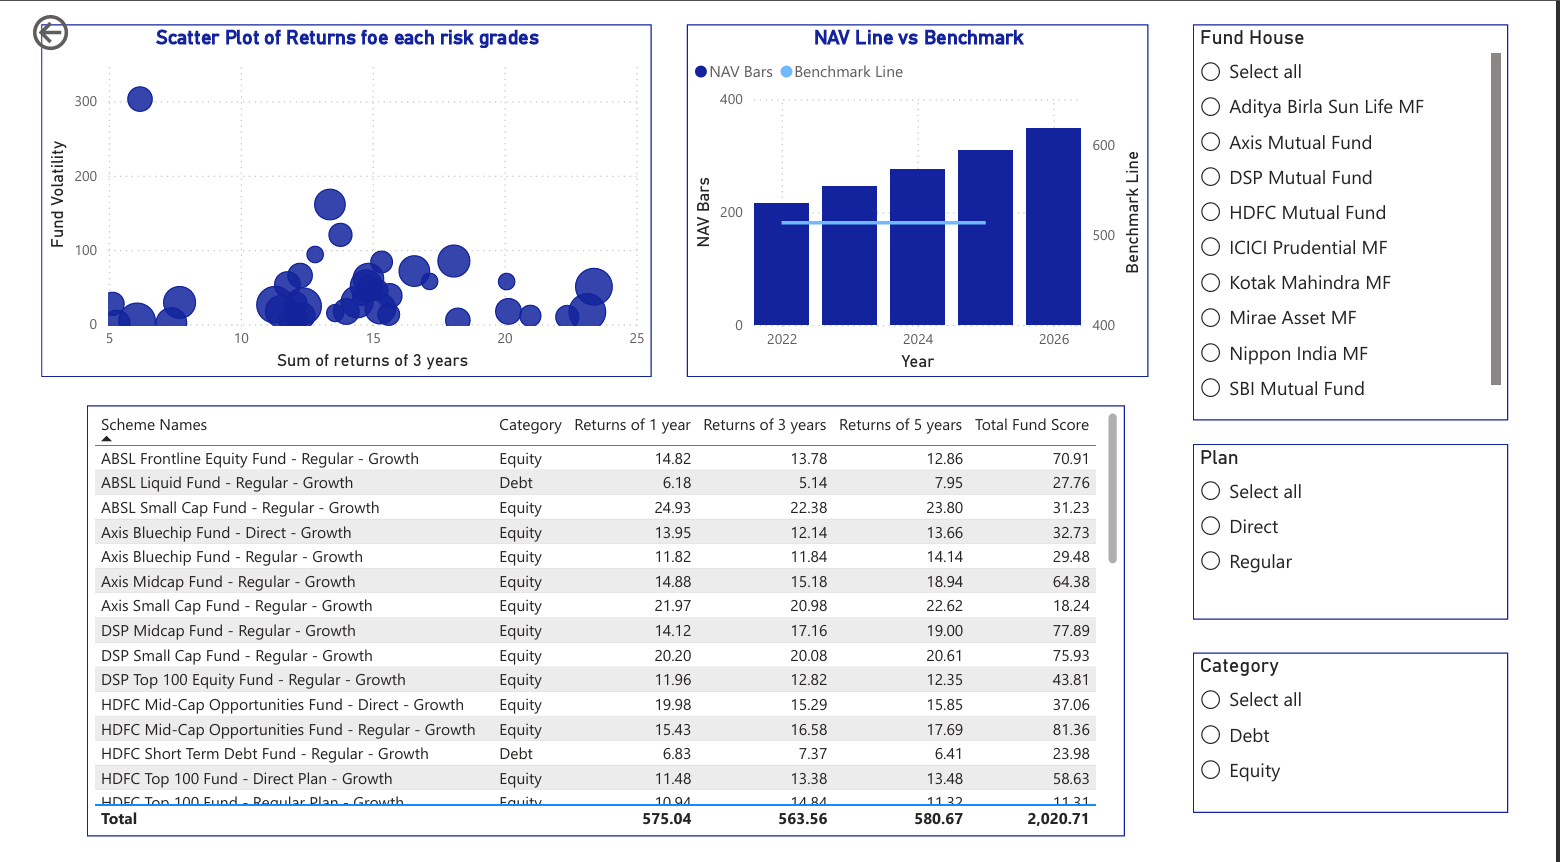

What the dashboard file says about the page in this screenshot:
{"tool":"powerbi","page":{"name":"Fund Performance","canvas":[1280,720],"ordinal":1},"visuals":[{"type":"scatterChart","title":"Scatter Plot of Returns foe each risk grades","fields":{"X":["Sum(fact_performance_pbi.return_3yr_pct)"],"Y":["fact_nav_pbi.Fund Volatility"],"Category":["dim_fund_pbi.scheme_name"],"Size":["Sum(fact_aum_pbi.aum_crore)"]},"box":[12.2,13.5,520.9,300.8],"z":0},{"type":"tableEx","fields":{"Values":["dim_fund_pbi.scheme_name","dim_fund_pbi.category","Sum(fact_performance_pbi.return_1yr_pct)","Sum(fact_performance_pbi.return_3yr_pct)","Sum(fact_performance_pbi.return_5yr_pct)","Sum(fund_scorecard.fund_score)"]},"box":[51.4,337.5,885.3,368.1],"z":1000},{"type":"listSlicer","fields":{"Values":["dim_fund_pbi.category"]},"box":[995.4,549.1,269,137],"z":2000},{"type":"listSlicer","fields":{"Values":["dim_fund_pbi.plan"]},"box":[995.4,370.5,269,150.4],"z":3000},{"type":"listSlicer","fields":{"Values":["dim_fund_pbi.fund_house"]},"box":[995.4,13.5,269,337.5],"z":4000},{"type":"lineClusteredColumnComboChart","title":"NAV Line vs Benchmark","fields":{"Category":["dim_date_pbi.date_id.Variation.Date Hierarchy.Year","dim_date_pbi.date_id.Variation.Date Hierarchy.Quarter","dim_date_pbi.date_id.Variation.Date Hierarchy.Month","dim_date_pbi.date_id.Variation.Date Hierarchy.Day"],"Y":["Avg(fact_nav_pbi.nav)"],"Y2":["Sum(fact_performance_pbi.benchmark_3yr_pct)"]},"box":[562.5,13.5,395,300.8],"z":5000},{"type":"actionButton","box":[0,0,100,40],"z":6000}]}

Visuals, with their boxes in screenshot pixels (x1, y1, x2, y2), scaled from the page's 1280x720 canvas onto the 1560x862 screenshot:
"Scatter Plot of Returns foe each risk grades" scatterChart: Rect(15, 16, 650, 376)
tableEx - dim_fund_pbi.scheme_name x dim_fund_pbi.category: Rect(63, 404, 1142, 845)
listSlicer - dim_fund_pbi.category: Rect(1213, 657, 1541, 821)
listSlicer - dim_fund_pbi.plan: Rect(1213, 444, 1541, 624)
listSlicer - dim_fund_pbi.fund_house: Rect(1213, 16, 1541, 420)
"NAV Line vs Benchmark" lineClusteredColumnComboChart: Rect(686, 16, 1167, 376)
actionButton: Rect(0, 0, 122, 48)
